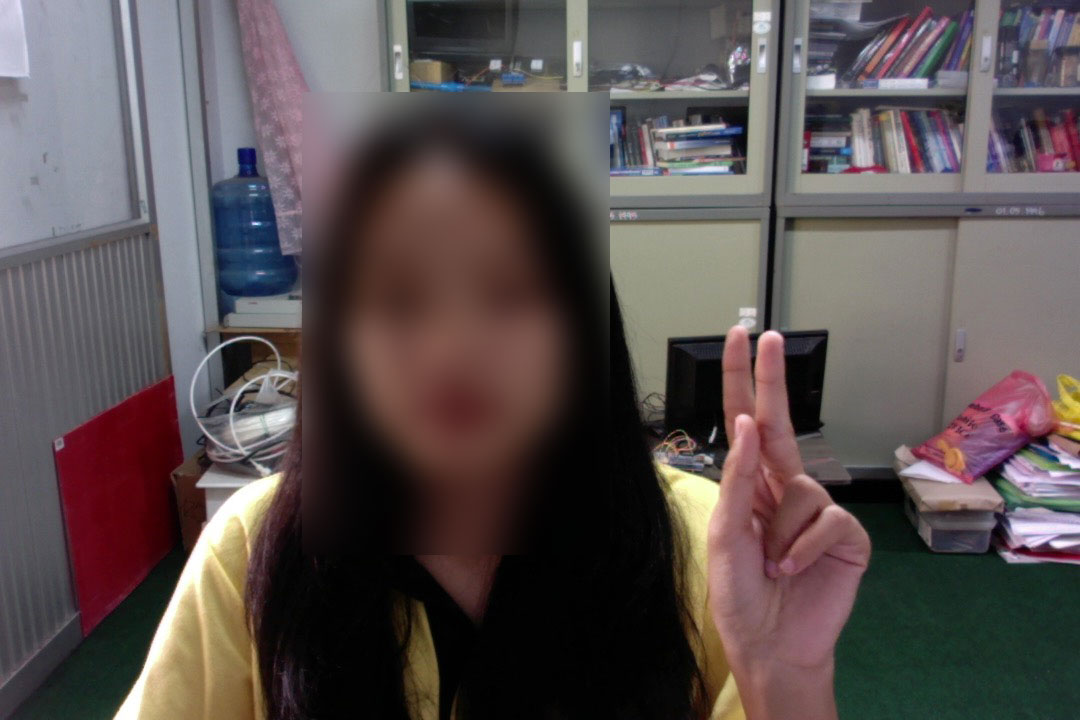ko: (689, 311, 878, 696)
